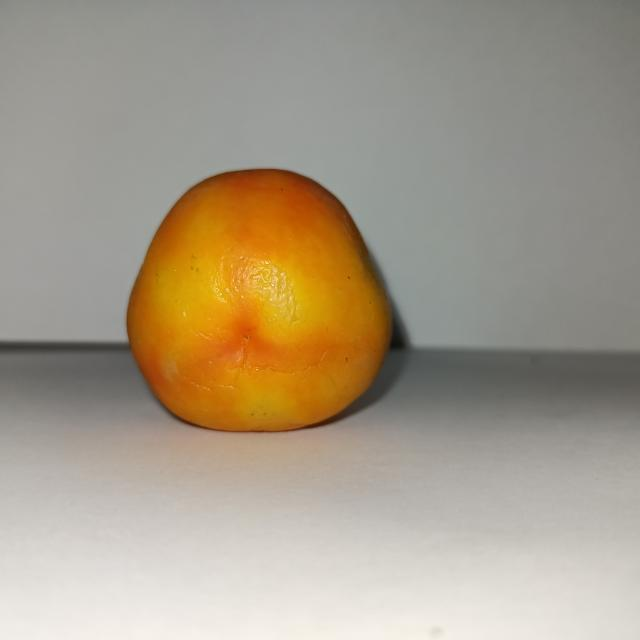Red: (124, 166, 394, 433)
